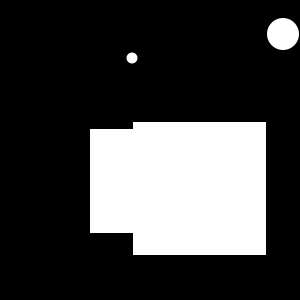circle: (133, 122, 266, 255), (90, 129, 194, 233)
rectangle: (267, 18, 299, 50), (126, 52, 138, 64)
